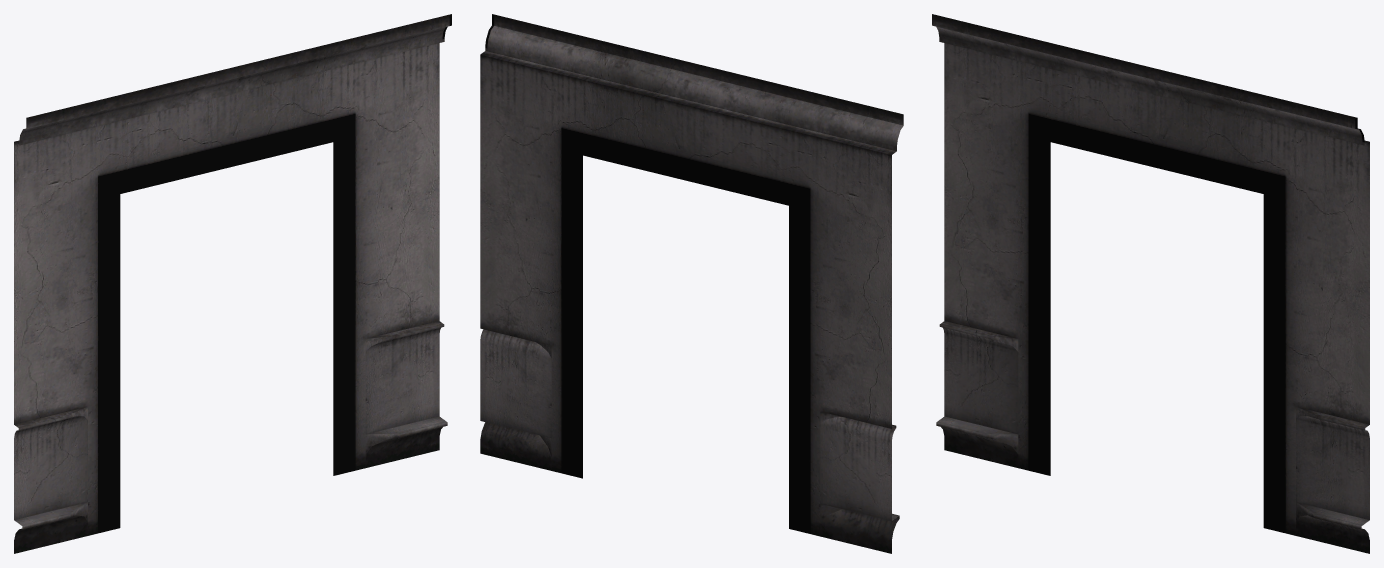
The model's file is 42_door_way.dae.
3 renders of one model, left to right at view 1: azimuth 30°, elevation 25°; view 2: azimuth 150°, elevation 25°; view 3: azimuth 330°, elevation 25°, orthographic. The views are drawn at different scales.
Parts seen in each view (by area): view 1: mansionbase_doorway; view 2: mansionbase_doorway; view 3: mansionbase_doorway.
Boxes of the visible parts, x1,y1,x2,y2 form: mansionbase_doorway: (14,14,451,553); mansionbase_doorway: (480,14,903,553); mansionbase_doorway: (932,14,1369,553).
Size of the model in its own units: 4 by 4 by 0.2011.
Materials: 1 (1 with a texture image).
